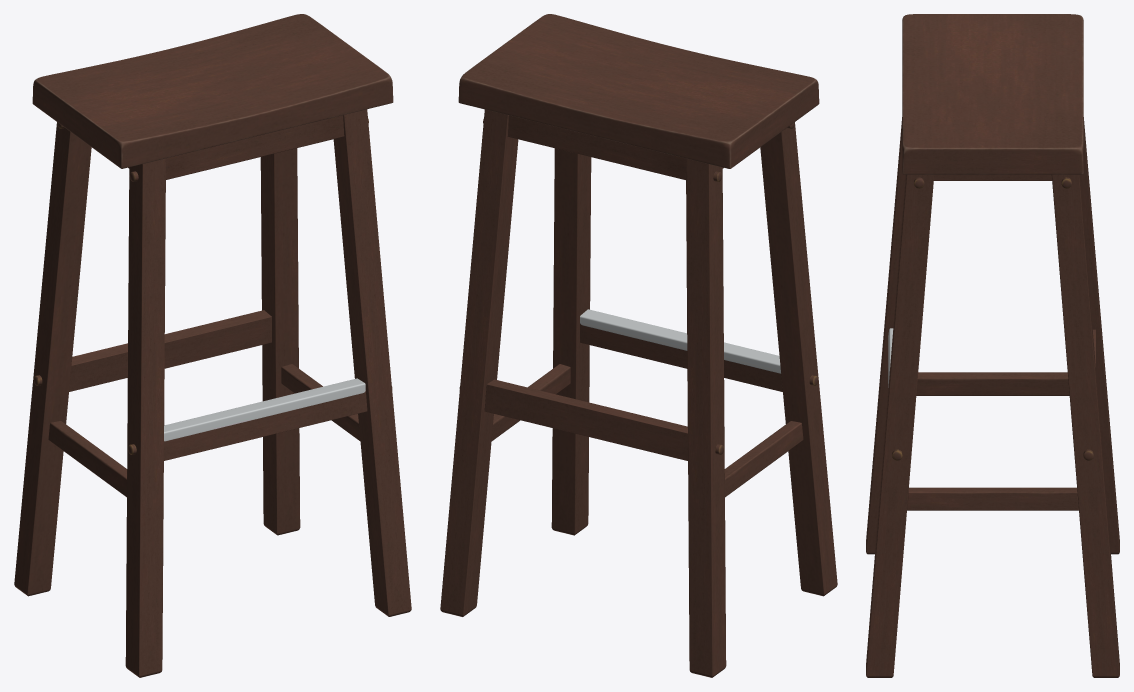
Rendered from stool_B07L6MD26Y.glb.
The picture shows the model from 3 angles, left to right: view 1: azimuth 30°, elevation 25°; view 2: azimuth 150°, elevation 25°; view 3: azimuth 270°, elevation 25°; orthographic projection.
Parts seen in each view (by area): view 1: RootNode; view 2: RootNode; view 3: RootNode.
Part boxes in pixels (box(x1,y1,x2,y2)): RootNode: box(14, 14, 411, 677); RootNode: box(440, 14, 837, 677); RootNode: box(866, 14, 1119, 677).
Bounding box in the file's own units: 0.4056 × 0.7422 × 0.3221.
Materials: 1 (1 with a texture image).
